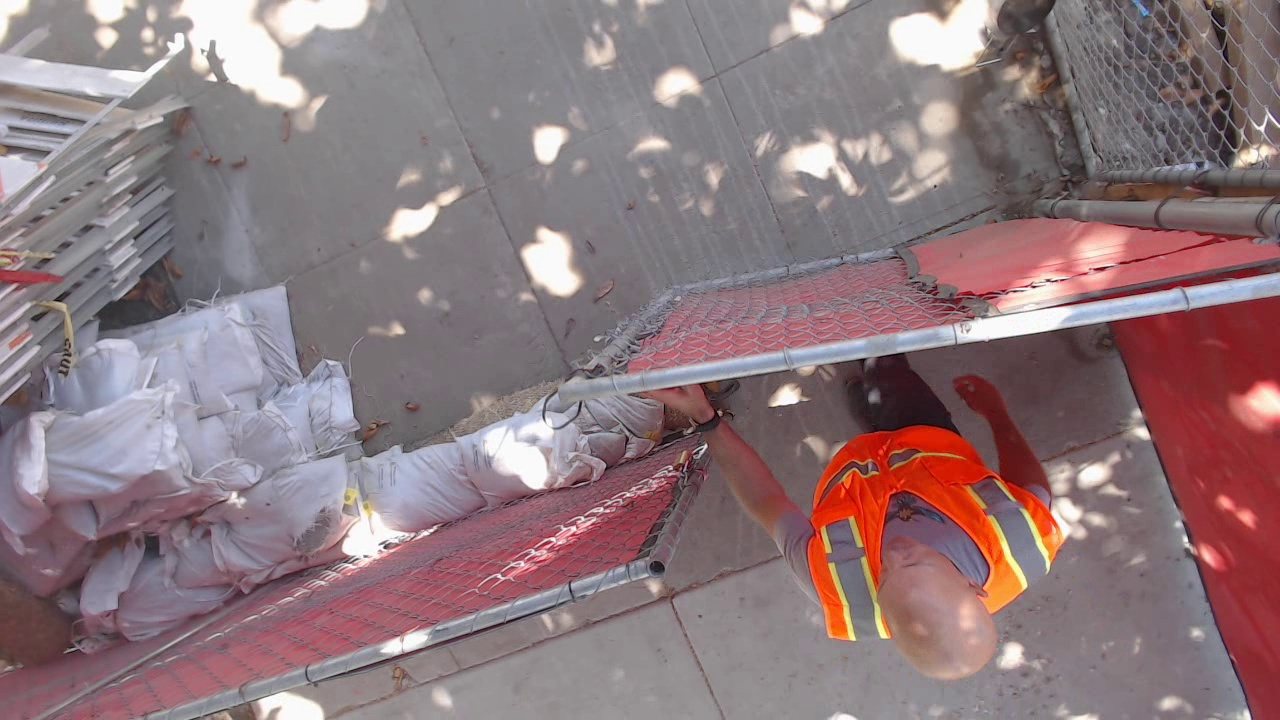hardhat: (601, 133, 735, 321)
person: (540, 67, 774, 404)
safetyvest: (536, 139, 711, 374)
